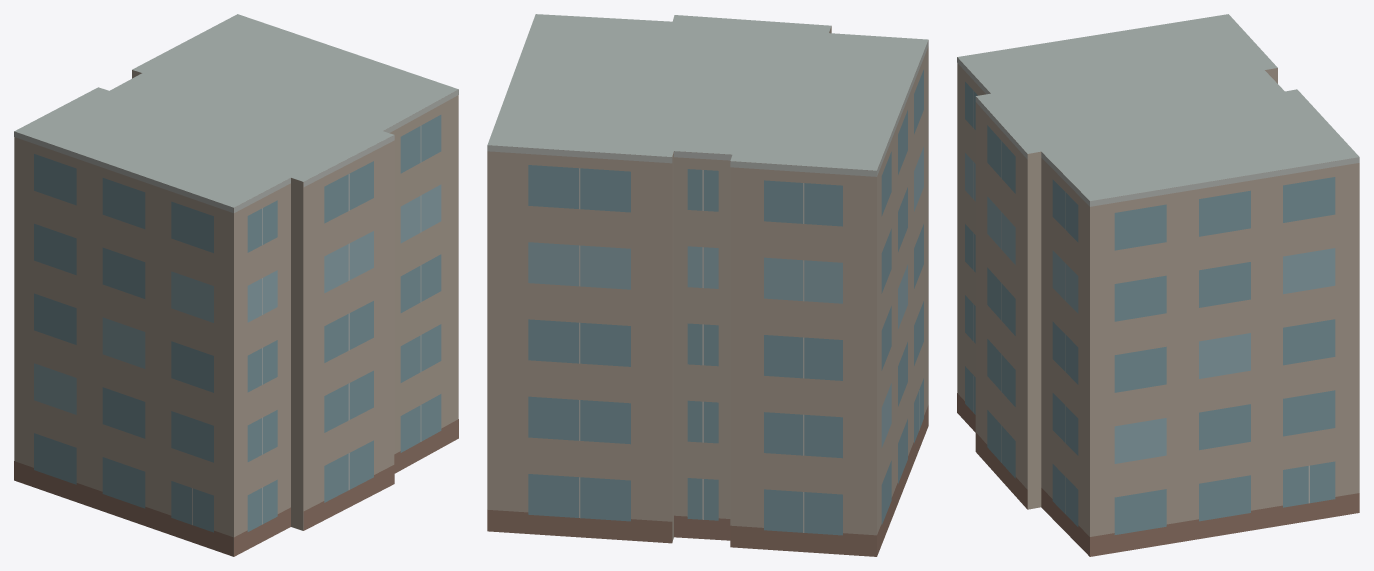
The model's file is survey-upis-32725842.glb.
The picture shows the model from 3 angles, left to right: view 1: azimuth 30°, elevation 25°; view 2: azimuth 150°, elevation 25°; view 3: azimuth 270°, elevation 25°; orthographic projection. The views are drawn at different scales.
Visible parts, largest first — view 1: survey-upis-32725842.tmp; view 2: survey-upis-32725842.tmp; view 3: survey-upis-32725842.tmp.
Boxes of the visible parts, x1=… form: survey-upis-32725842.tmp: x1=14, y1=14, x2=458, y2=556; survey-upis-32725842.tmp: x1=487, y1=14, x2=928, y2=556; survey-upis-32725842.tmp: x1=957, y1=14, x2=1359, y2=556.
Bounding box in the file's own units: 17.22 × 15.25 × 15.65.
